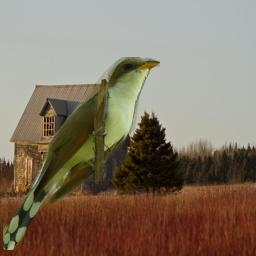Cuckoo: (3, 57, 160, 250)
